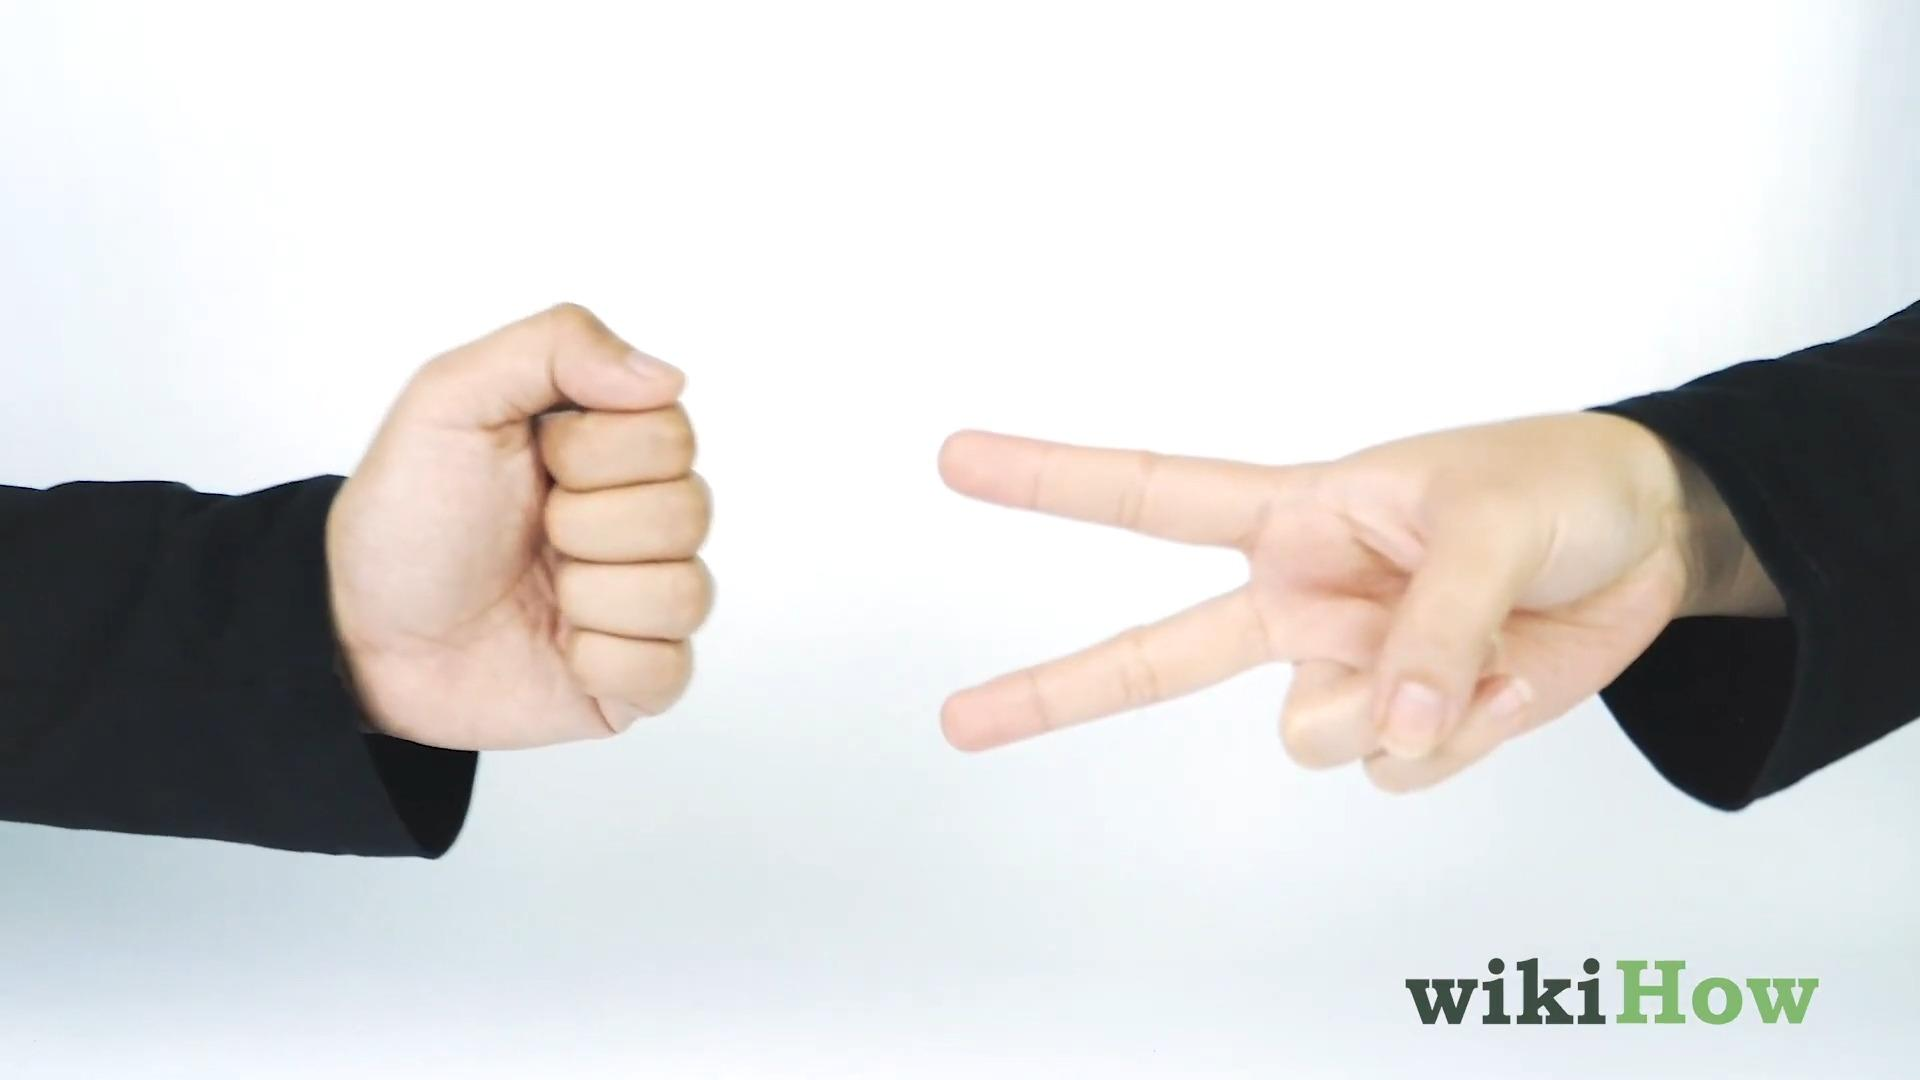Rock: (338, 301, 719, 753)
Scissors: (932, 407, 1684, 800)
